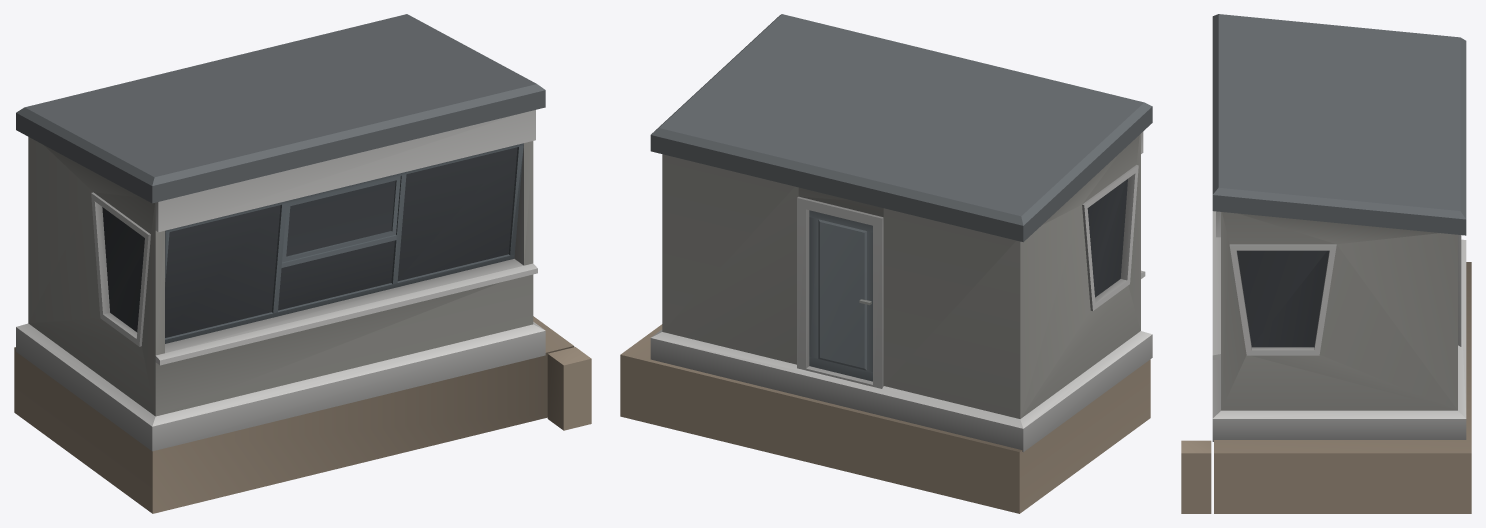
Rendered from pressbox.glb.
The picture shows the model from 3 angles, left to right: view 1: azimuth 30°, elevation 25°; view 2: azimuth 150°, elevation 25°; view 3: azimuth 270°, elevation 25°; orthographic projection. The views are drawn at different scales.
Visible parts, largest first — view 1: pressbox; view 2: pressbox; view 3: pressbox.
Boxes of the visible parts, <box> form: pressbox: <box>14,14,591,513</box>; pressbox: <box>620,14,1152,513</box>; pressbox: <box>1181,14,1471,513</box>.
Size of the model in its own units: 6.98 by 5.27 by 4.46.
